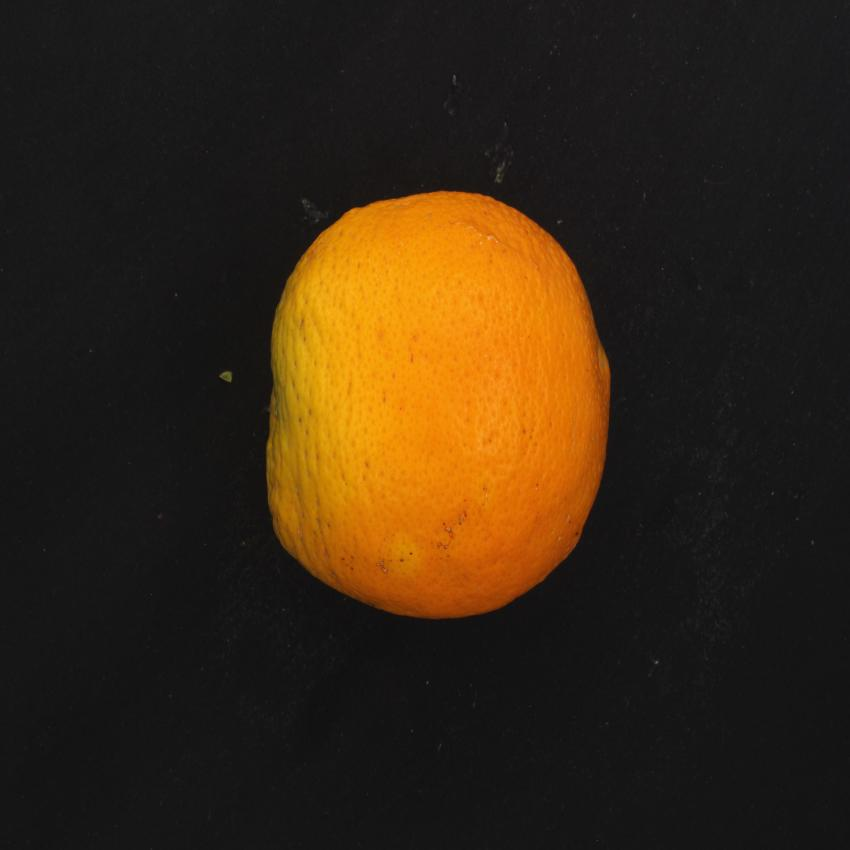Buen estado: (255, 181, 616, 639)
